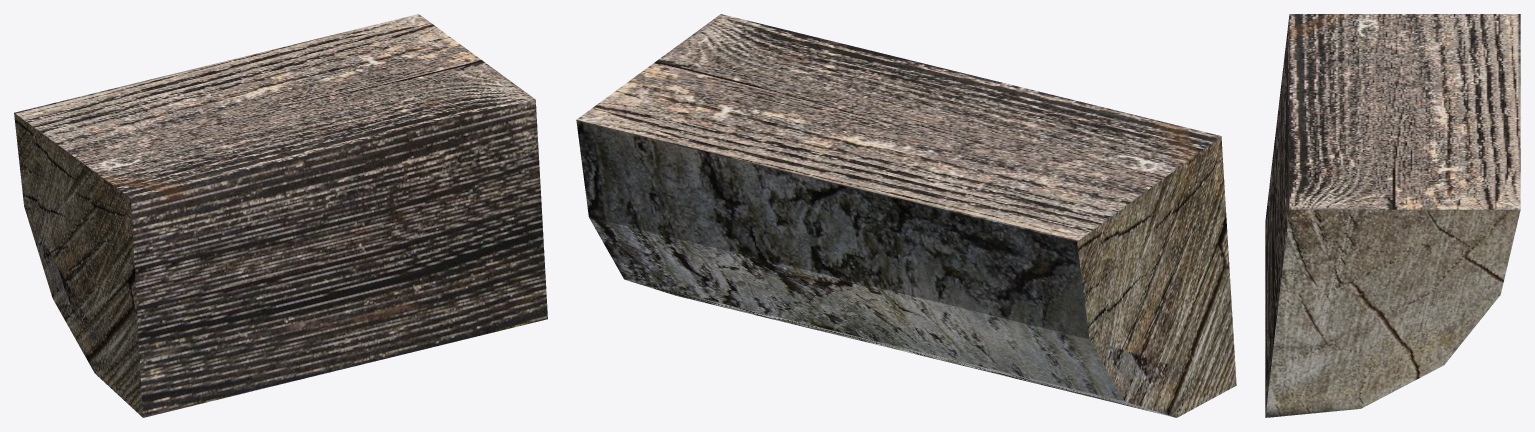
Rendered from new_wood.obj.
3 renders of one model, left to right at view 1: azimuth 30°, elevation 25°; view 2: azimuth 150°, elevation 25°; view 3: azimuth 270°, elevation 25°, orthographic. The views are drawn at different scales.
Visible parts, largest first — view 1: Wood_Cube; view 2: Wood_Cube; view 3: Wood_Cube.
Boxes of the visible parts, <box> form: Wood_Cube: <box>14,14,547,417</box>; Wood_Cube: <box>576,14,1236,417</box>; Wood_Cube: <box>1265,14,1520,417</box>.
Size of what is drawn, in the model's own units: 20 by 9.95 by 11.05.
